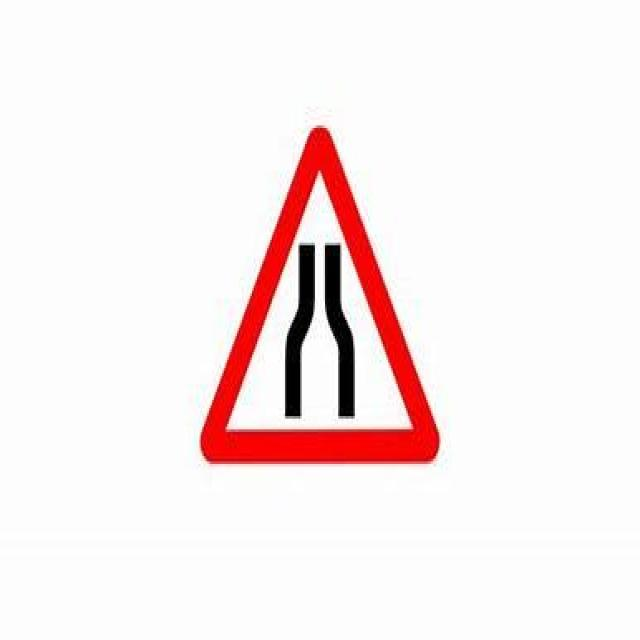NARROW_ROAD_AHEAD: (199, 123, 442, 467)
